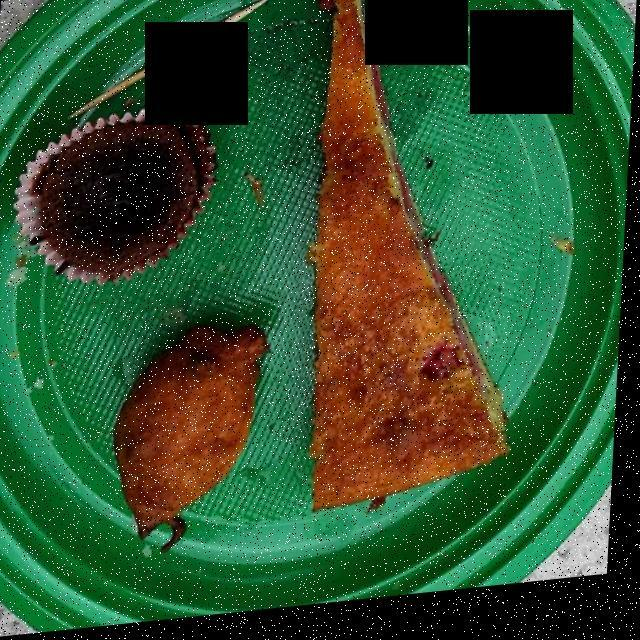cake: (320, 0, 514, 519)
